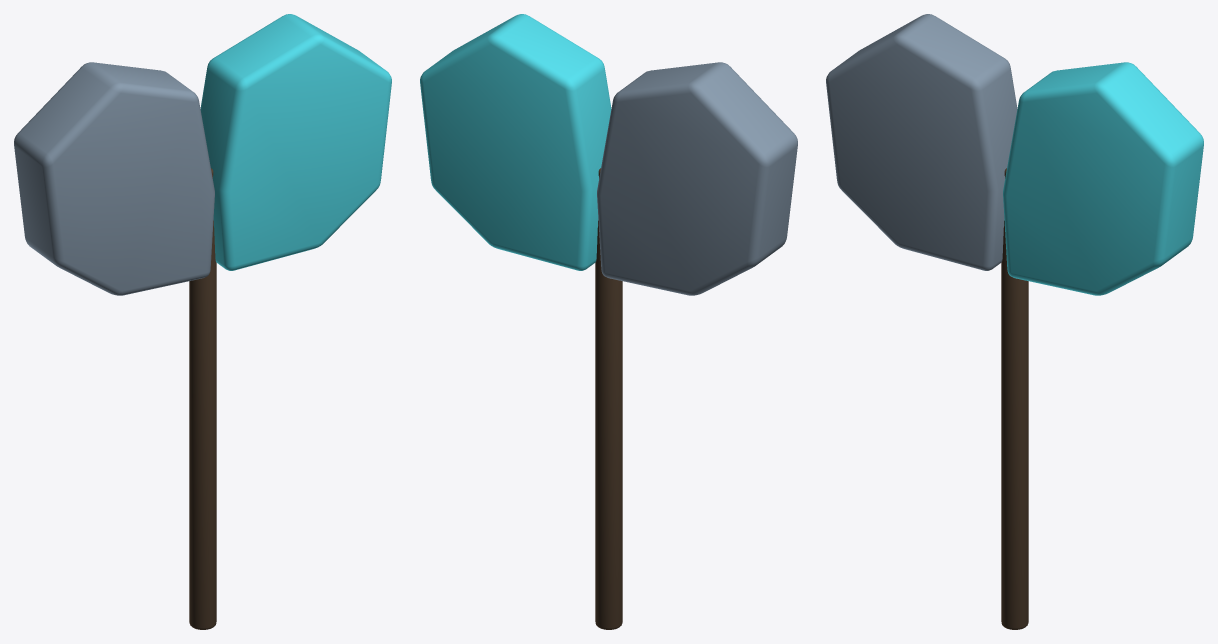
The model's file is axe_v8.glb.
3 views of the same model, side by side, from view 1: azimuth 30°, elevation 25°; view 2: azimuth 150°, elevation 25°; view 3: azimuth 330°, elevation 25° (orthographic).
Parts seen in each view (by area): view 1: CHOPPER_AXE_HEAD_PRIMARY, CHOPPER_REVERSE_HEAD_ACCENT, AXE_HANDLE_SECONDARY; view 2: CHOPPER_AXE_HEAD_PRIMARY, CHOPPER_REVERSE_HEAD_ACCENT, AXE_HANDLE_SECONDARY; view 3: CHOPPER_REVERSE_HEAD_ACCENT, CHOPPER_AXE_HEAD_PRIMARY, AXE_HANDLE_SECONDARY.
Boxes of the visible parts, left/top/right/bottom form: CHOPPER_AXE_HEAD_PRIMARY: left=14, top=62, right=214, bottom=295; CHOPPER_REVERSE_HEAD_ACCENT: left=200, top=14, right=391, bottom=270; AXE_HANDLE_SECONDARY: left=189, top=168, right=216, bottom=629; CHOPPER_AXE_HEAD_PRIMARY: left=597, top=62, right=797, bottom=295; CHOPPER_REVERSE_HEAD_ACCENT: left=420, top=14, right=611, bottom=270; AXE_HANDLE_SECONDARY: left=595, top=168, right=622, bottom=629; CHOPPER_REVERSE_HEAD_ACCENT: left=1003, top=62, right=1203, bottom=295; CHOPPER_AXE_HEAD_PRIMARY: left=826, top=14, right=1017, bottom=270; AXE_HANDLE_SECONDARY: left=1001, top=168, right=1028, bottom=629.
Bounding box in the file's own units: 2.83 × 4.46 × 0.5.
